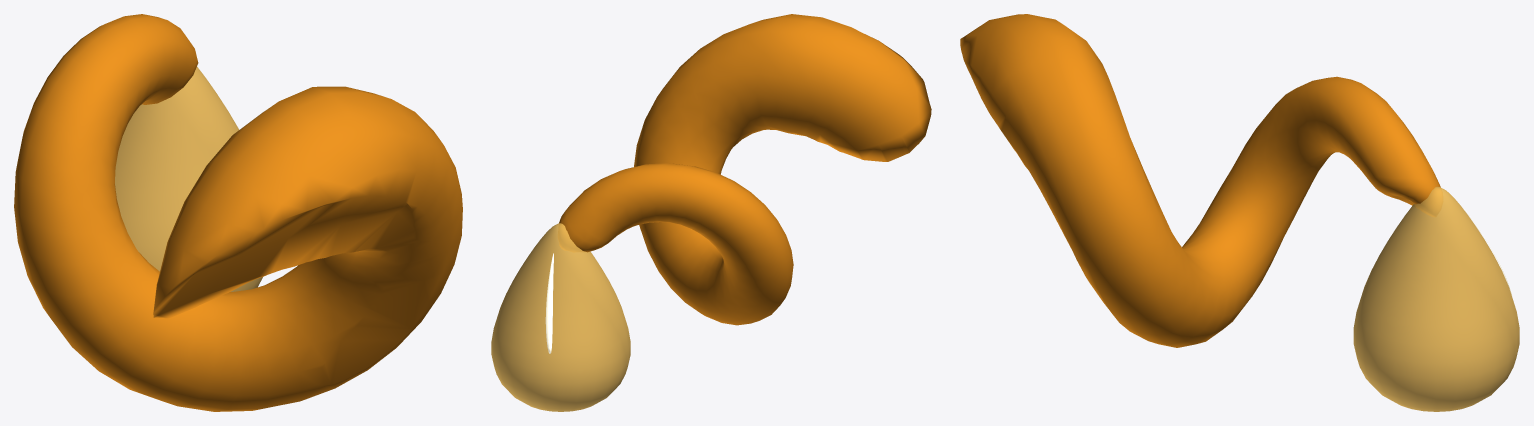
The model's file is honeycomb-tail.fbx.
3 views of the same model, side by side, from view 1: azimuth 30°, elevation 25°; view 2: azimuth 150°, elevation 25°; view 3: azimuth 270°, elevation 25° (orthographic). The views are drawn at different scales.
Visible parts, largest first — view 1: Tail, HoneyDrop; view 2: Tail, HoneyDrop, HoneyDropHighlight; view 3: Tail, HoneyDrop.
Boxes of the visible parts, x1,y1,x2,y2 form: Tail: (14,14,462,411); HoneyDrop: (115,66,262,291); Tail: (558,14,931,325); HoneyDrop: (491,223,630,411); HoneyDropHighlight: (545,253,553,353); Tail: (960,14,1442,347); HoneyDrop: (1353,186,1519,411).
Size of the model in its own units: 309 by 336 by 510.
Materials: 3 (1 with a texture image).
